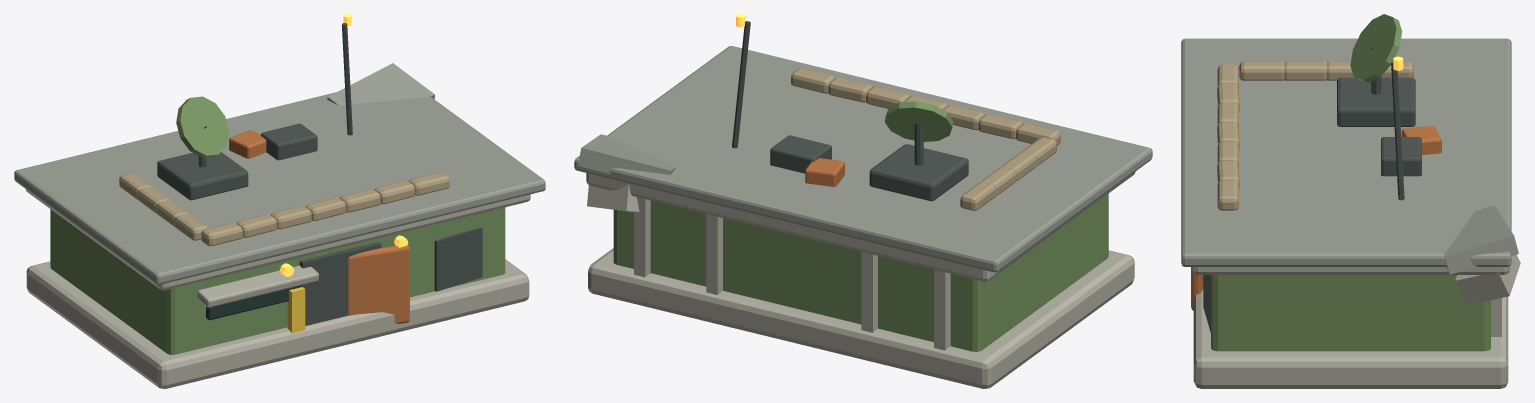
File: hero_military_bunker.glb
3 renders of one model, left to right at view 1: azimuth 30°, elevation 25°; view 2: azimuth 150°, elevation 25°; view 3: azimuth 270°, elevation 25°, orthographic. The views are drawn at different scales.
Visible parts, largest first — view 1: HeroBunker_RoofLip, HeroBunker_Body, HeroBunker_Base, HeroBunker_BlastDoor, HeroBunker_Roof, HeroBunker_DoorVoid, HeroBunker_RadarBase, HeroBunker_BurnScar, HeroBunker_RadarDish, HeroBunker_DamageChunkA, HeroBunker_WindowHood, HeroBunker_VentA (+15 smaller); view 2: HeroBunker_RoofLip, HeroBunker_Body, HeroBunker_Base, HeroBunker_Roof, HeroBunker_RadarBase, HeroBunker_DamageChunkA, HeroBunker_RadarDish, HeroBunker_VentA, HeroBunker_Rib_-3.0, HeroBunker_Rib_-5.8, HeroBunker_Rib_3.0, HeroBunker_Rib_5.8 (+13 smaller); view 3: HeroBunker_RoofLip, HeroBunker_Body, HeroBunker_Base, HeroBunker_RadarBase, HeroBunker_DamageChunkA, HeroBunker_RadarDish, HeroBunker_Roof, HeroBunker_DamageChunkB, HeroBunker_VentA, HeroBunker_Antenna, RoofSandbagSide_0, RoofSandbagSide_1 (+13 smaller).
Part boxes in pixels (<box>): HeroBunker_RoofLip: <box>14,92,545,284</box>; HeroBunker_Body: <box>50,207,505,354</box>; HeroBunker_Base: <box>26,259,529,388</box>; HeroBunker_BlastDoor: <box>348,245,409,323</box>; HeroBunker_Roof: <box>25,189,530,290</box>; HeroBunker_DoorVoid: <box>299,242,381,325</box>; HeroBunker_RadarBase: <box>157,152,248,200</box>; HeroBunker_BurnScar: <box>434,227,482,291</box>; HeroBunker_RadarDish: <box>176,96,229,157</box>; HeroBunker_DamageChunkA: <box>327,63,434,105</box>; HeroBunker_WindowHood: <box>197,265,318,307</box>; HeroBunker_VentA: <box>261,123,317,160</box>; HeroBunker_RoofLip: <box>574,46,1152,272</box>; HeroBunker_Body: <box>613,193,1108,351</box>; HeroBunker_Base: <box>588,248,1134,388</box>; HeroBunker_Roof: <box>586,171,1135,281</box>; HeroBunker_RadarBase: <box>869,144,968,201</box>; HeroBunker_DamageChunkA: <box>578,134,676,174</box>; HeroBunker_RadarDish: <box>885,101,953,141</box>; HeroBunker_VentA: <box>770,135,831,173</box>; HeroBunker_Rib_-3.0: <box>861,252,877,332</box>; HeroBunker_Rib_-5.8: <box>934,269,950,350</box>; HeroBunker_Rib_3.0: <box>706,214,722,294</box>; HeroBunker_Rib_5.8: <box>634,197,650,277</box>; HeroBunker_RoofLip: <box>1181,38,1511,266</box>; HeroBunker_Body: <box>1211,275,1490,351</box>; HeroBunker_Base: <box>1193,289,1508,388</box>; HeroBunker_RadarBase: <box>1337,77,1415,126</box>; HeroBunker_DamageChunkA: <box>1444,205,1518,274</box>; HeroBunker_RadarDish: <box>1350,14,1402,82</box>; HeroBunker_Roof: <box>1192,266,1509,274</box>; HeroBunker_DamageChunkB: <box>1455,254,1520,305</box>; HeroBunker_VentA: <box>1381,137,1421,176</box>; HeroBunker_Antenna: <box>1391,62,1404,200</box>; RoofSandbagSide_0: <box>1239,61,1284,80</box>; RoofSandbagSide_1: <box>1284,61,1326,80</box>.
Size of the model in its own units: 16.58 by 9.82 by 10.79.
